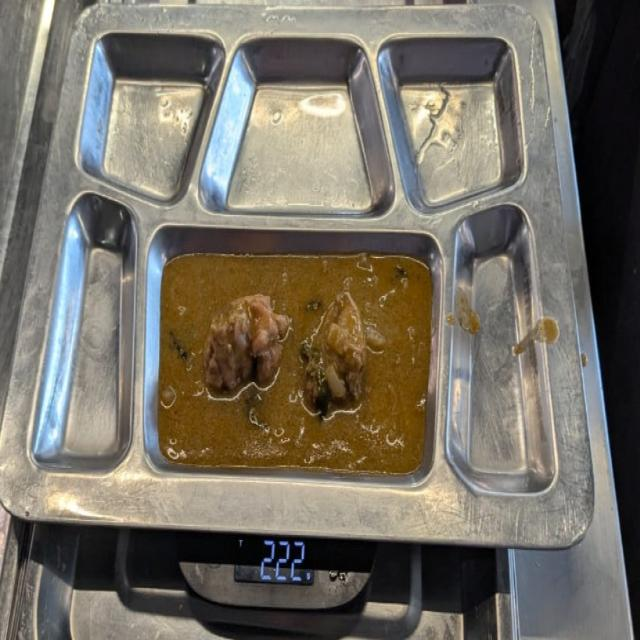Chicken Curry: (154, 234, 437, 481)
